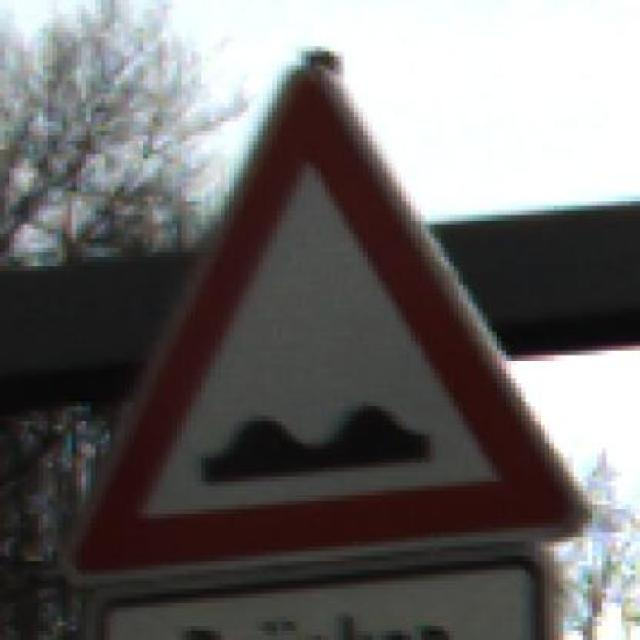Uneven Road: (53, 56, 602, 575)
